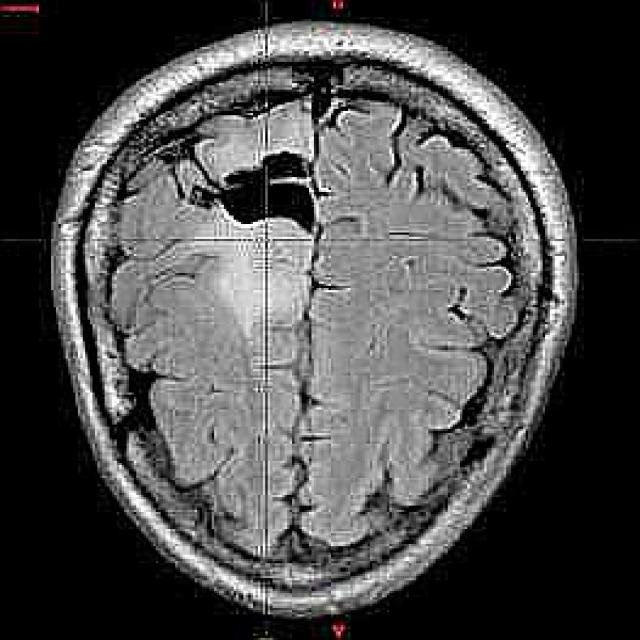Tumor-Cell: (185, 117, 332, 332)
